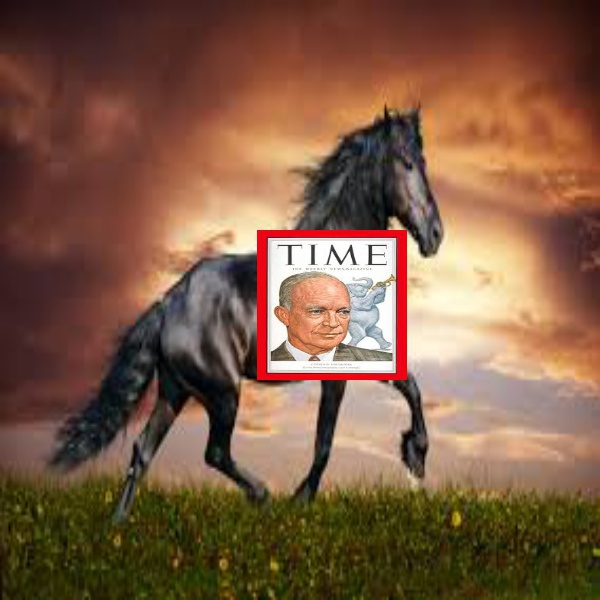time_cover: (257, 220, 411, 388)
